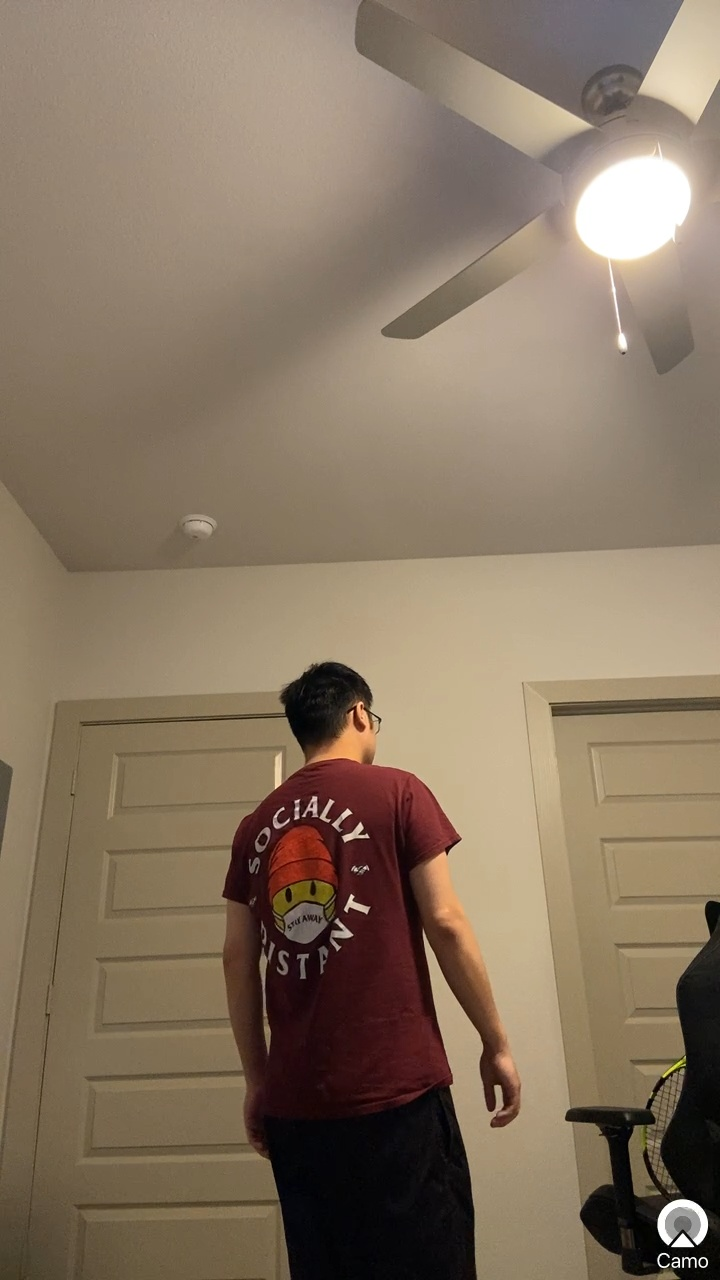Person: (200, 656, 548, 1280)
